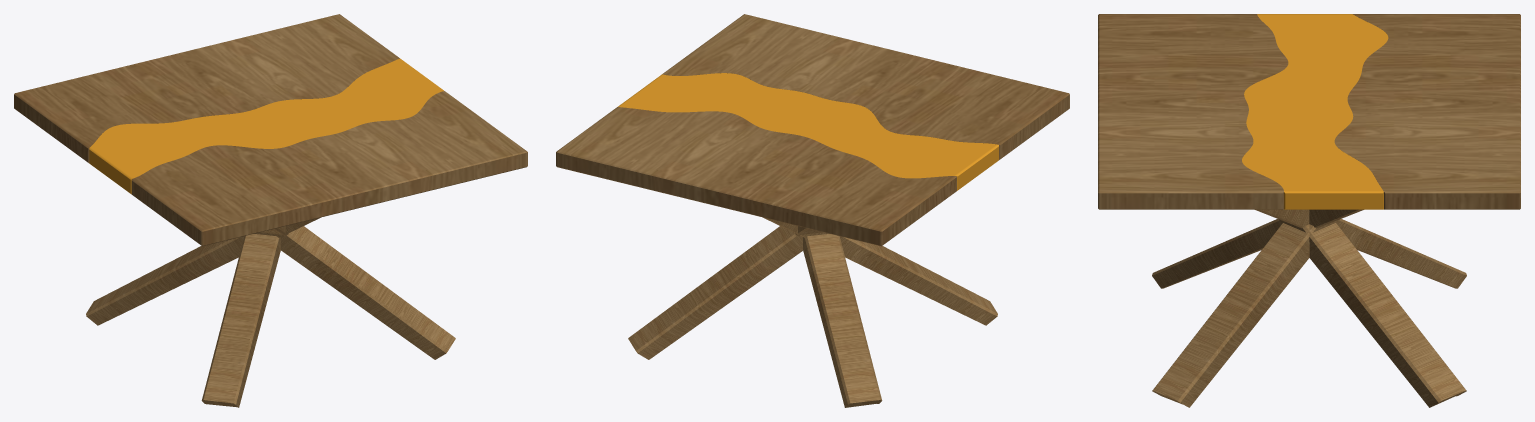
Rendered from square-oak-epoxy-amber.glb.
3 views of the same model, side by side, from view 1: azimuth 30°, elevation 25°; view 2: azimuth 150°, elevation 25°; view 3: azimuth 270°, elevation 25° (orthographic). The views are drawn at different scales.
Parts seen in each view (by area): view 1: Wood_Square_EpoxyFar, Wood_Square_EpoxyNear, Base_Square, Resin_Square; view 2: Wood_Square_EpoxyNear, Wood_Square_EpoxyFar, Base_Square, Resin_Square; view 3: Wood_Square_EpoxyFar, Wood_Square_EpoxyNear, Base_Square, Resin_Square.
Part boxes in pixels (x1,y1,x2,y2): Wood_Square_EpoxyFar: (131,91,527,246); Wood_Square_EpoxyNear: (14,14,399,162); Base_Square: (86,217,455,407); Resin_Square: (89,58,443,194); Wood_Square_EpoxyNear: (556,107,956,246); Wood_Square_EpoxyFar: (662,14,1069,159); Base_Square: (628,217,997,407); Resin_Square: (618,73,998,190); Wood_Square_EpoxyFar: (1098,14,1288,209); Wood_Square_EpoxyNear: (1334,14,1520,209); Base_Square: (1152,209,1466,407); Resin_Square: (1242,14,1388,209).
Bounding box in the file's own units: 1.22 × 0.762 × 1.22.
Materials: 2 (1 with a texture image).
